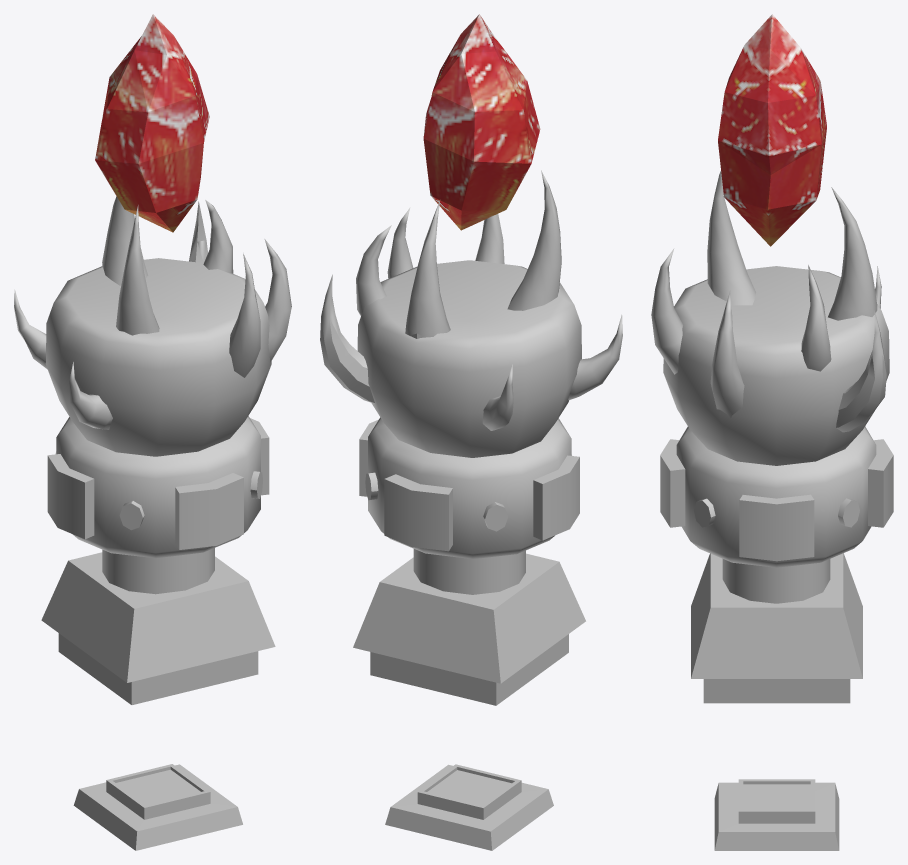
The model's file is Tower_red.FBX.
The picture shows the model from 3 angles, left to right: view 1: azimuth 30°, elevation 25°; view 2: azimuth 150°, elevation 25°; view 3: azimuth 270°, elevation 25°; orthographic projection.
Visible parts, largest first — view 1: Tower_hanbingta_red, Tower_hanbingta_red_crystal; view 2: Tower_hanbingta_red, Tower_hanbingta_red_crystal; view 3: Tower_hanbingta_red, Tower_hanbingta_red_crystal.
Boxes of the visible parts, left/top/right/bottom form: Tower_hanbingta_red: left=14, top=196, right=291, bottom=850; Tower_hanbingta_red_crystal: left=95, top=14, right=209, bottom=232; Tower_hanbingta_red: left=320, top=170, right=622, bottom=850; Tower_hanbingta_red_crystal: left=423, top=14, right=540, bottom=230; Tower_hanbingta_red: left=651, top=171, right=893, bottom=850; Tower_hanbingta_red_crystal: left=718, top=14, right=826, bottom=246.
Size of the model in its own units: 179 by 604 by 164.
